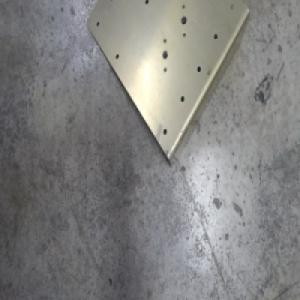MetalSheet: (87, 0, 251, 170)
